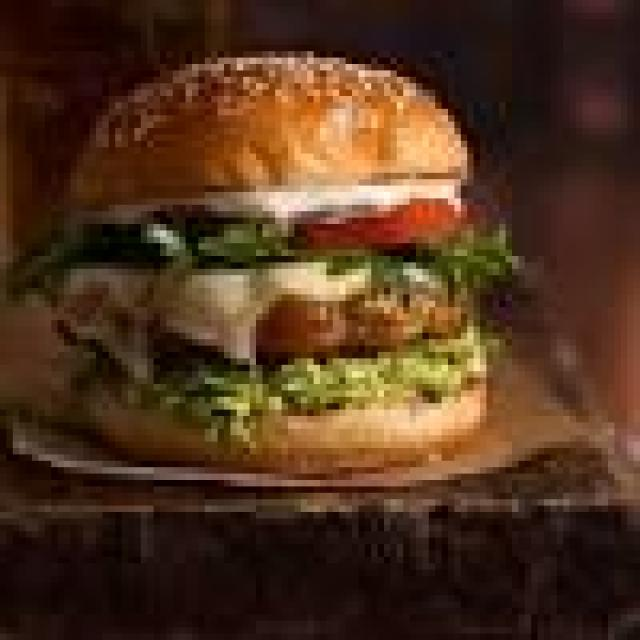Burger: (58, 68, 518, 480)
